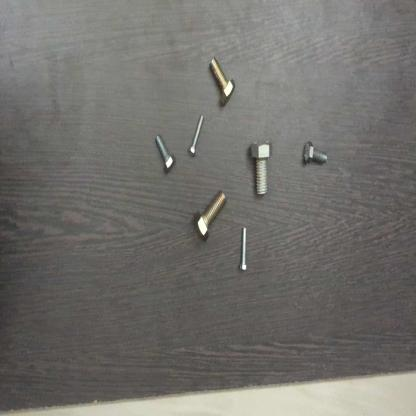Bolts: (191, 182, 231, 245), (245, 134, 274, 209), (208, 55, 236, 109), (149, 131, 177, 175), (186, 111, 208, 159), (298, 140, 332, 170), (237, 223, 251, 276)
